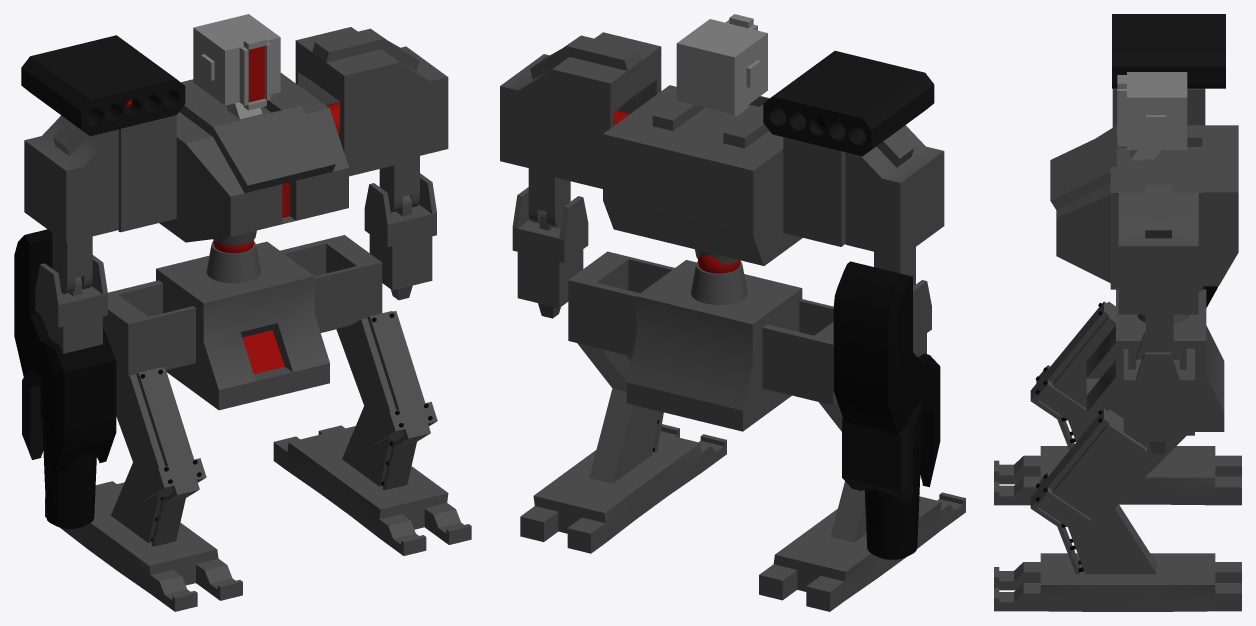
File: RobotBoss01V2.fbx
The picture shows the model from 3 angles, left to right: view 1: azimuth 30°, elevation 25°; view 2: azimuth 150°, elevation 25°; view 3: azimuth 270°, elevation 25°; orthographic projection. The views are drawn at different scales.
Parts seen in each view (by area): view 1: Box001, Box015, Box019, Line002, Box016, Box011, Box020, Box002, Box013, Box018, Box017, Box012 (+1 smaller); view 2: Box001, Box015, Line002, Box019, Box011, Box016, Box020, Box002, Box013, Box012, Cone003, Box018 (+1 smaller); view 3: Box001, Box015, Box011, Box019, Box020, Box002, Box013, Box012, Box016.
Boxes of the visible parts, <box> form: Box001: <box>45,235,471,611</box>; Box015: <box>159,73,348,242</box>; Box019: <box>156,241,329,410</box>; Line002: <box>14,229,116,528</box>; Box016: <box>24,115,176,242</box>; Box011: <box>295,27,448,176</box>; Box020: <box>21,35,185,136</box>; Box002: <box>193,14,280,119</box>; Box013: <box>364,173,436,300</box>; Box018: <box>35,255,107,353</box>; Box017: <box>52,233,92,293</box>; Box012: <box>379,156,419,212</box>; Box001: <box>520,251,965,611</box>; Box015: <box>603,85,802,265</box>; Line002: <box>833,261,940,559</box>; Box019: <box>626,260,802,431</box>; Box011: <box>500,32,661,188</box>; Box016: <box>783,125,944,257</box>; Box020: <box>763,51,934,156</box>; Box002: <box>676,14,767,116</box>; Box013: <box>512,187,588,318</box>; Box012: <box>528,168,570,228</box>; Cone003: <box>691,261,747,304</box>; Box018: <box>913,280,931,357</box>; Box001: <box>994,301,1241,611</box>; Box015: <box>1050,125,1238,286</box>; Box011: <box>1110,159,1203,314</box>; Box019: <box>1086,289,1224,431</box>; Box020: <box>1112,14,1225,88</box>; Box002: <box>1117,72,1187,160</box>; Box013: <box>1136,331,1179,453</box>; Box012: <box>1145,314,1173,359</box>; Box016: <box>1112,88,1205,127</box>.
Size of the model in its own units: 223 by 269 by 130.
